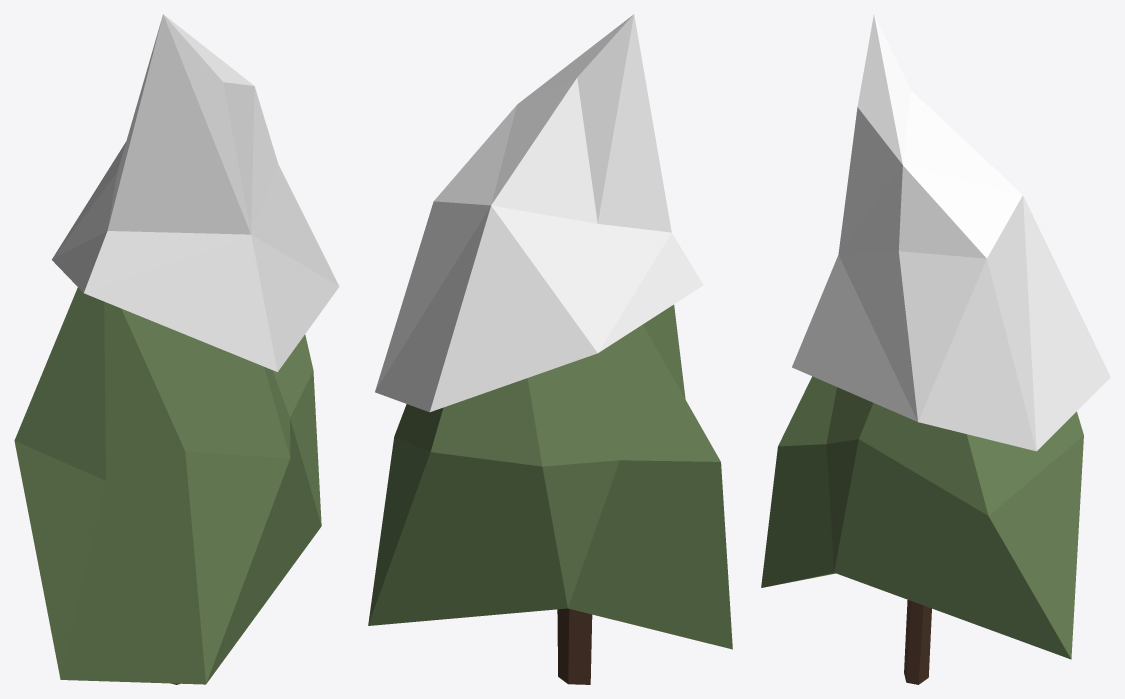
File: TreeWinter9_Alt2.fbx
The picture shows the model from 3 angles, left to right: view 1: azimuth 30°, elevation 25°; view 2: azimuth 150°, elevation 25°; view 3: azimuth 270°, elevation 25°; orthographic projection. The views are drawn at different scales.
Parts seen in each view (by area): view 1: TreeWinter9_Alt2; view 2: TreeWinter9_Alt2; view 3: TreeWinter9_Alt2.
Part boxes in pixels (x1,y1,x2,y2): TreeWinter9_Alt2: (14,14,339,684); TreeWinter9_Alt2: (368,14,732,684); TreeWinter9_Alt2: (761,14,1110,684).
Bounding box in the file's own units: 1.47 × 3.03 × 1.49.
